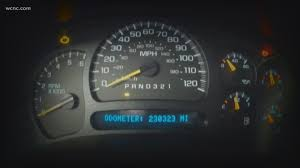Digital_Meter: (89, 110, 210, 131)
